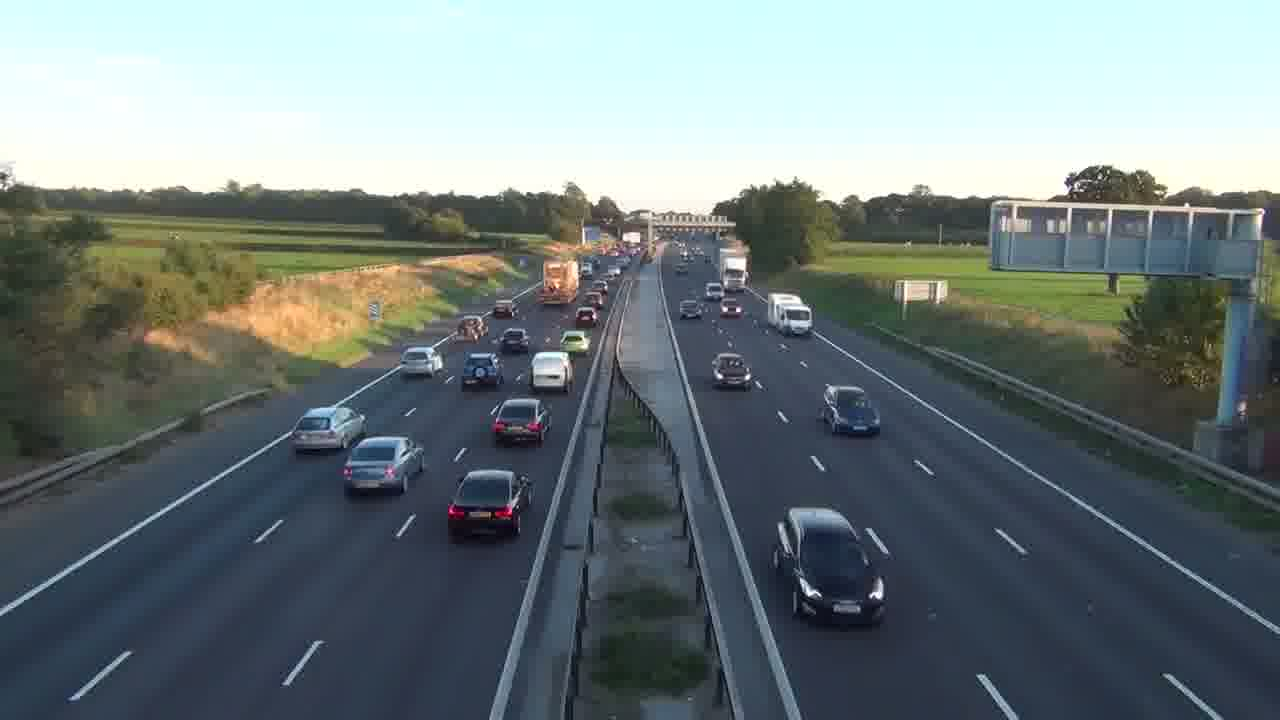car: (771, 506, 889, 627), (446, 467, 533, 540), (340, 435, 425, 496), (290, 405, 367, 453), (489, 396, 551, 447), (822, 384, 881, 437), (530, 351, 574, 394), (711, 352, 752, 390), (497, 328, 530, 354)
